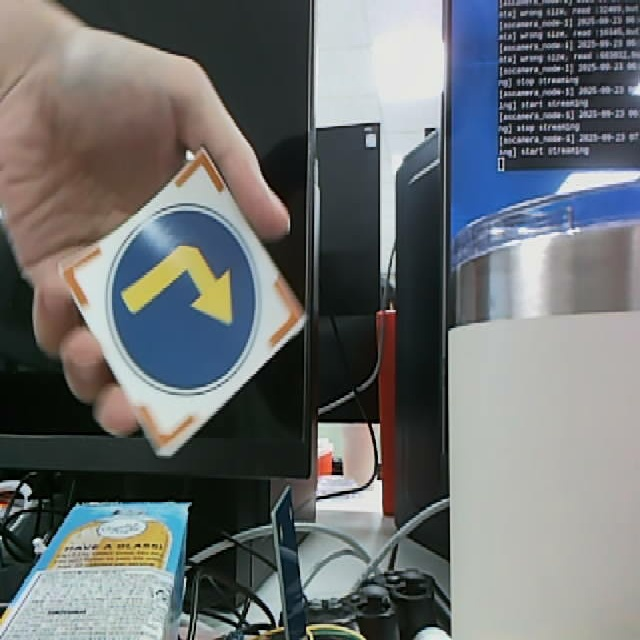right: (55, 143, 311, 459)
